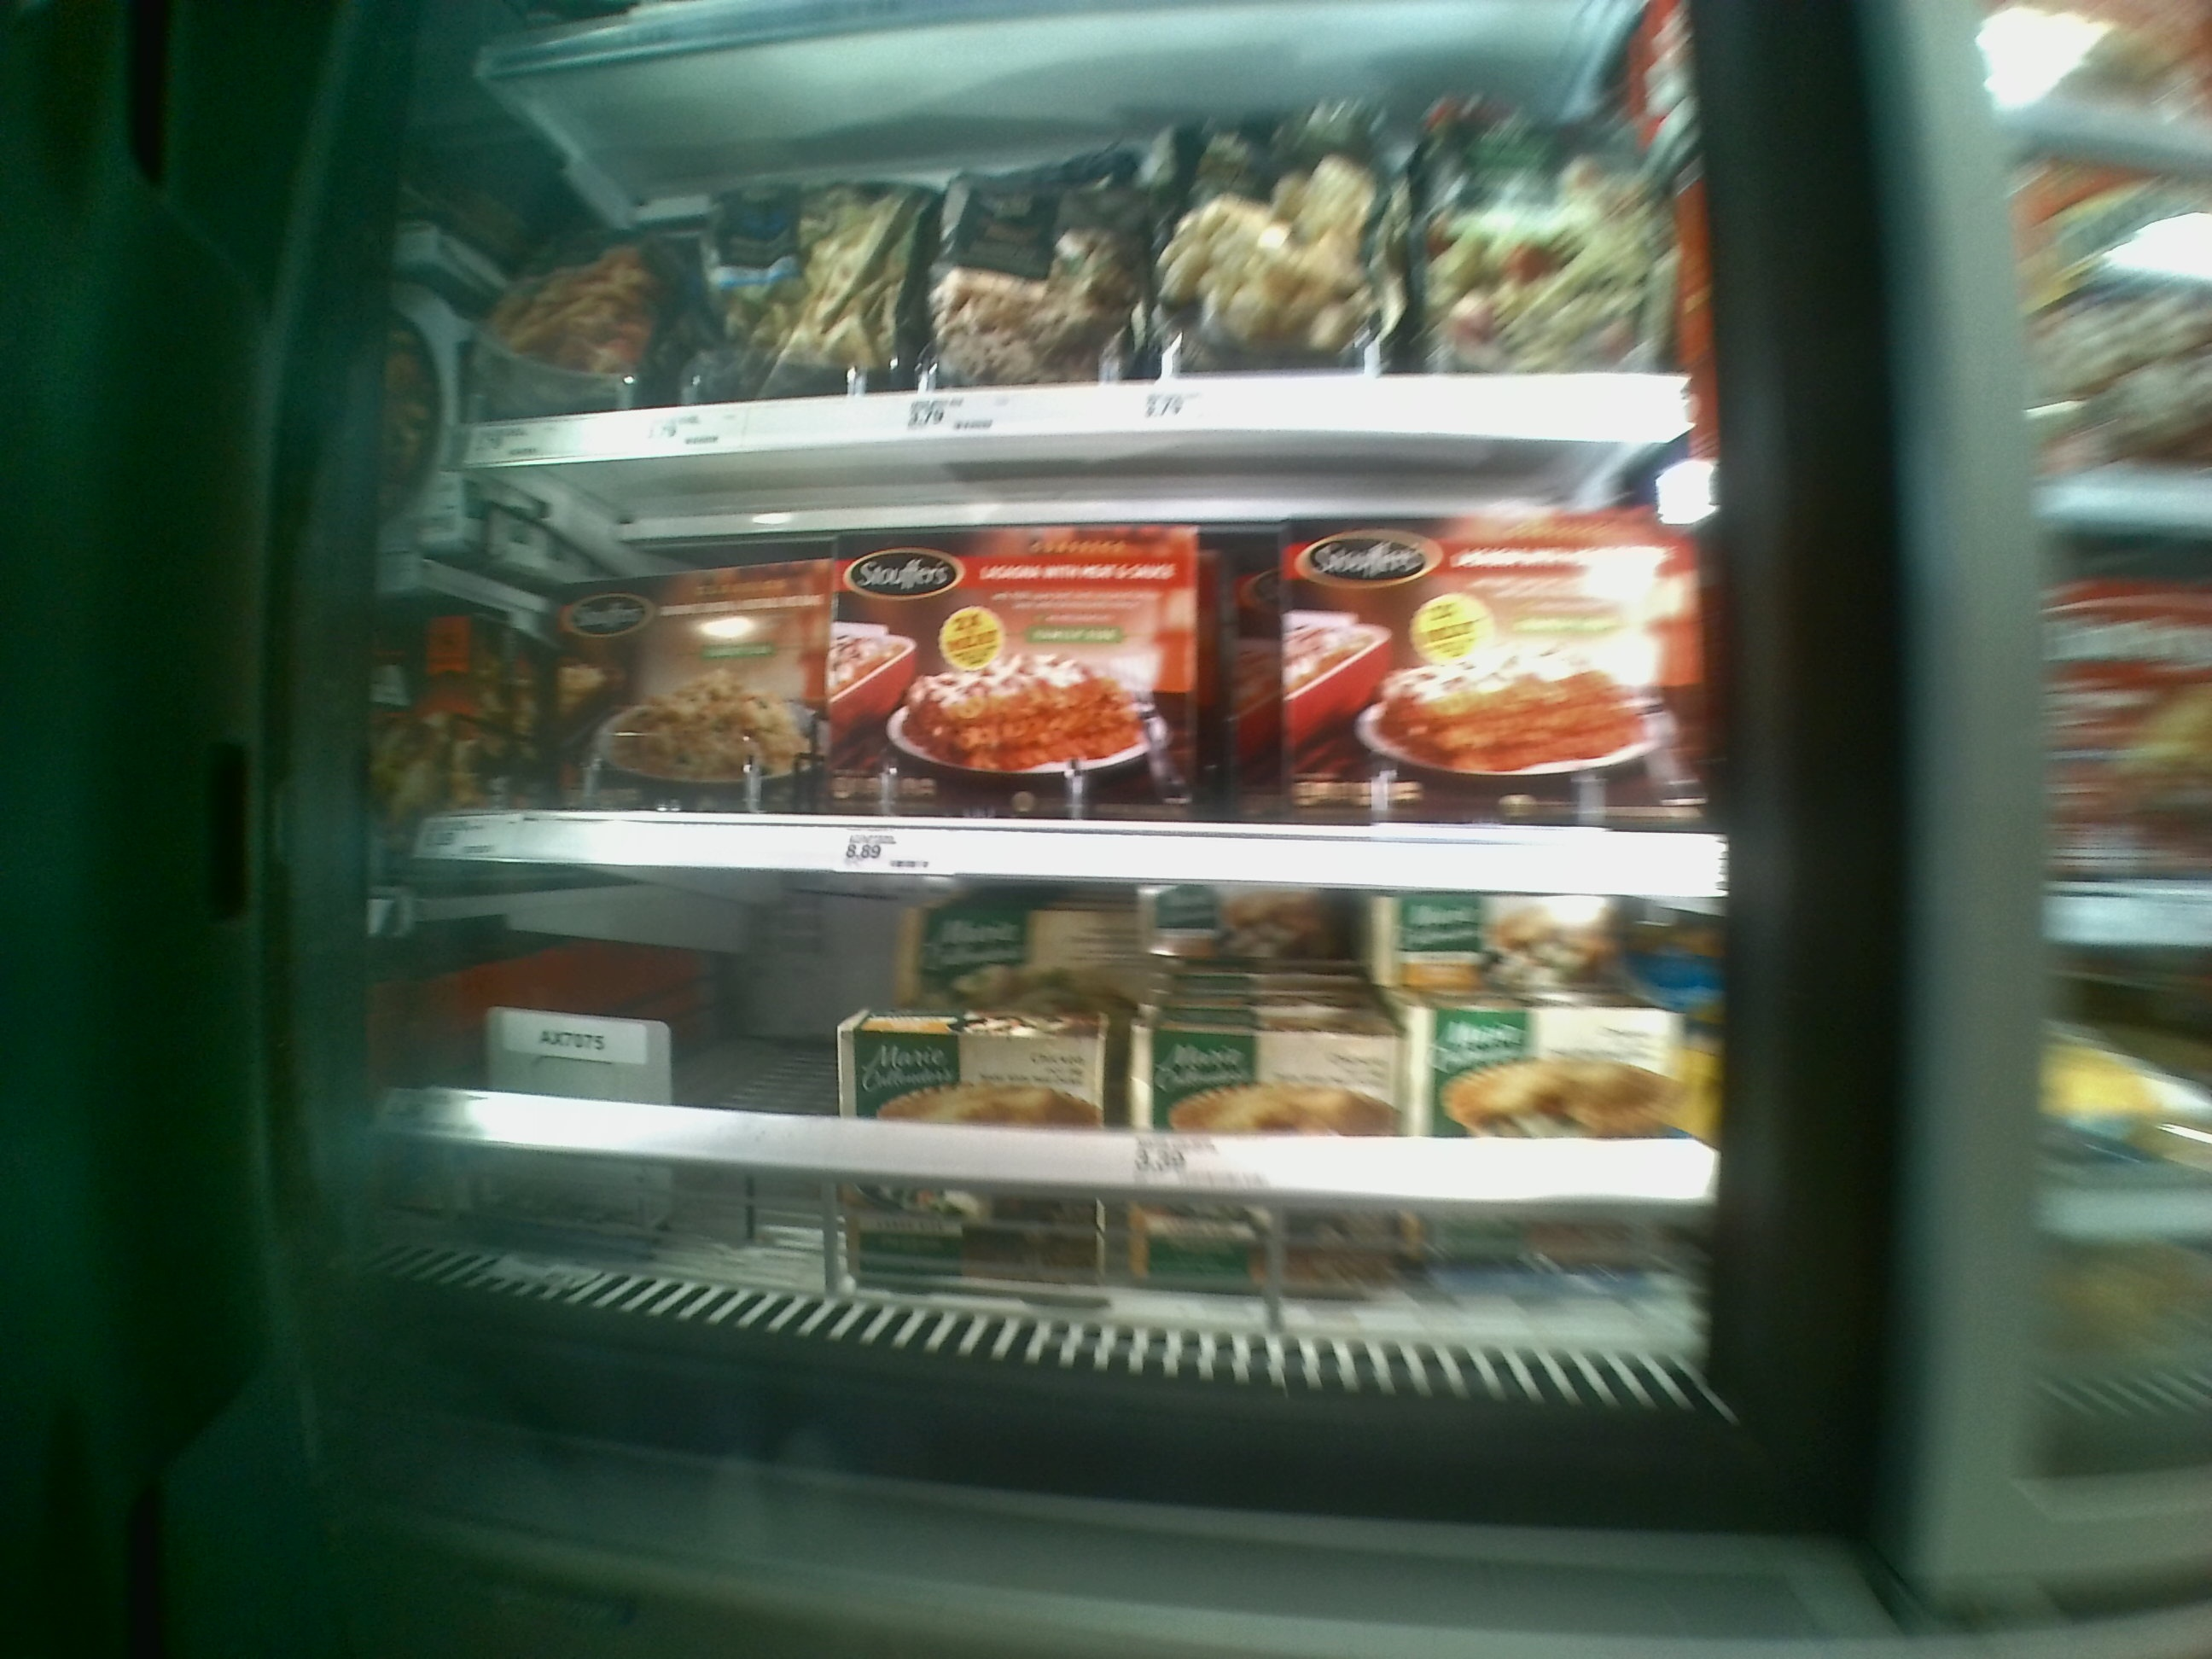frozen-food-shelf: (413, 484, 1705, 897)
